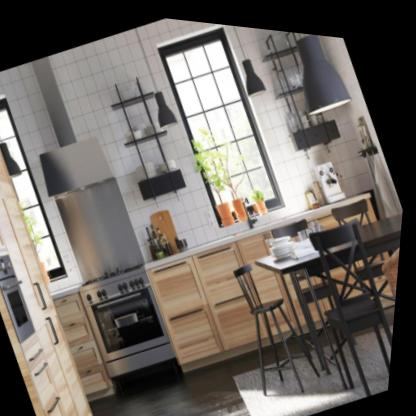Chair: (216, 238, 341, 404)
